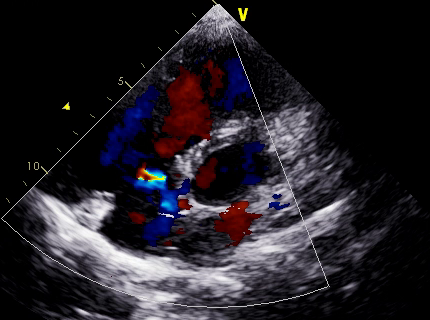TR: (129, 94, 193, 202)
